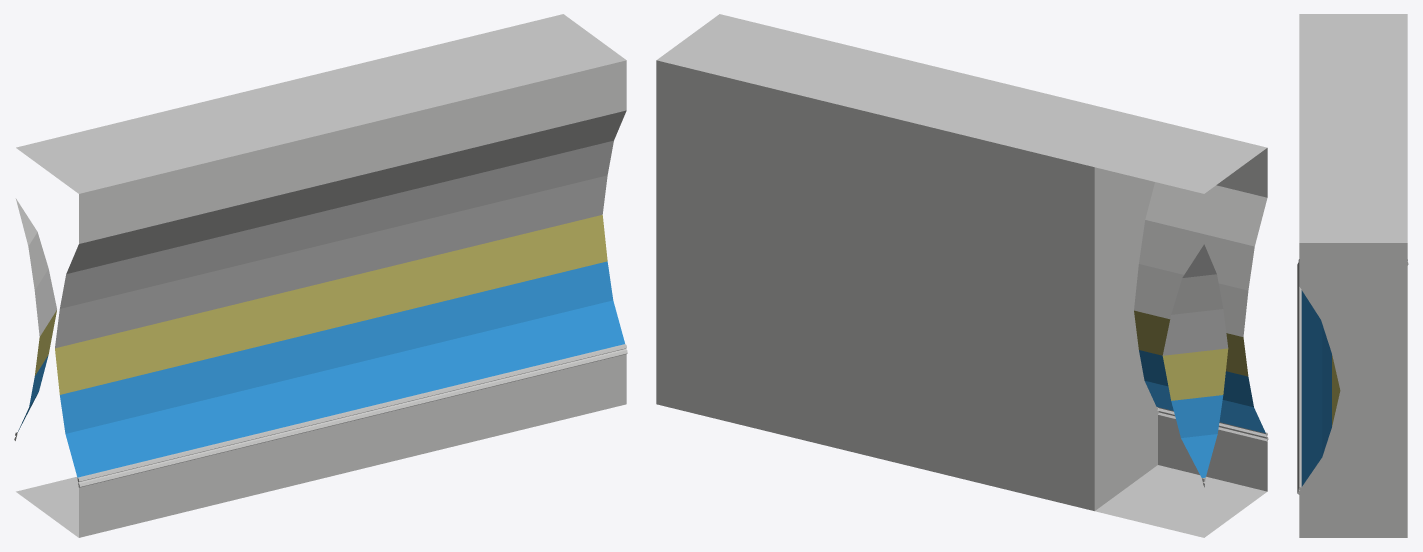
Rendered from SM_Wall__L_Connector_CertoCerto.fbx.
3 views of the same model, side by side, from view 1: azimuth 30°, elevation 25°; view 2: azimuth 150°, elevation 25°; view 3: azimuth 270°, elevation 25° (orthographic). The views are drawn at different scales.
Parts seen in each view (by area): view 1: SM_Wall_Edge_Var1.013; view 2: SM_Wall_Edge_Var1.013; view 3: SM_Wall_Edge_Var1.013.
Boxes of the visible parts, box(x1,y1,x2,y2) form: SM_Wall_Edge_Var1.013: box(14, 14, 627, 537); SM_Wall_Edge_Var1.013: box(656, 14, 1268, 537); SM_Wall_Edge_Var1.013: box(1297, 14, 1408, 537).
Size of the model in its own units: 1002 by 600 by 205.
